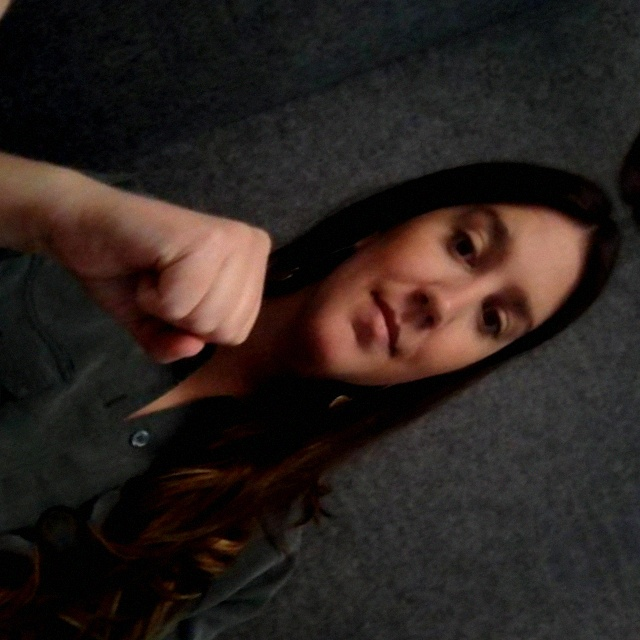Rock: (30, 130, 306, 410)
